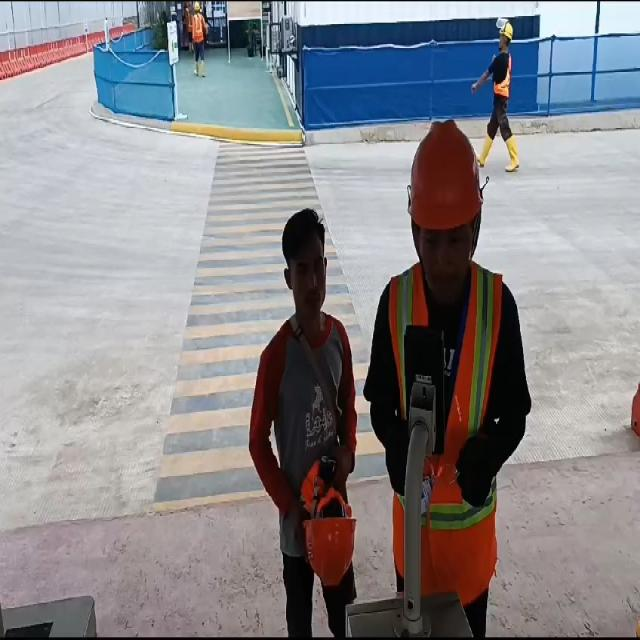gloves: (461, 433, 498, 499), (387, 428, 411, 484)
helmet: (408, 128, 486, 231), (306, 504, 359, 584), (498, 15, 516, 39)
safety_vest: (384, 261, 504, 612), (495, 56, 515, 94), (194, 12, 204, 44)
